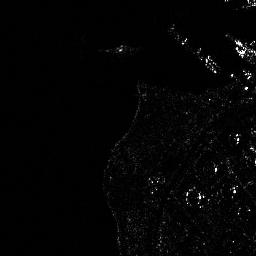ship: (168, 26, 219, 73)
